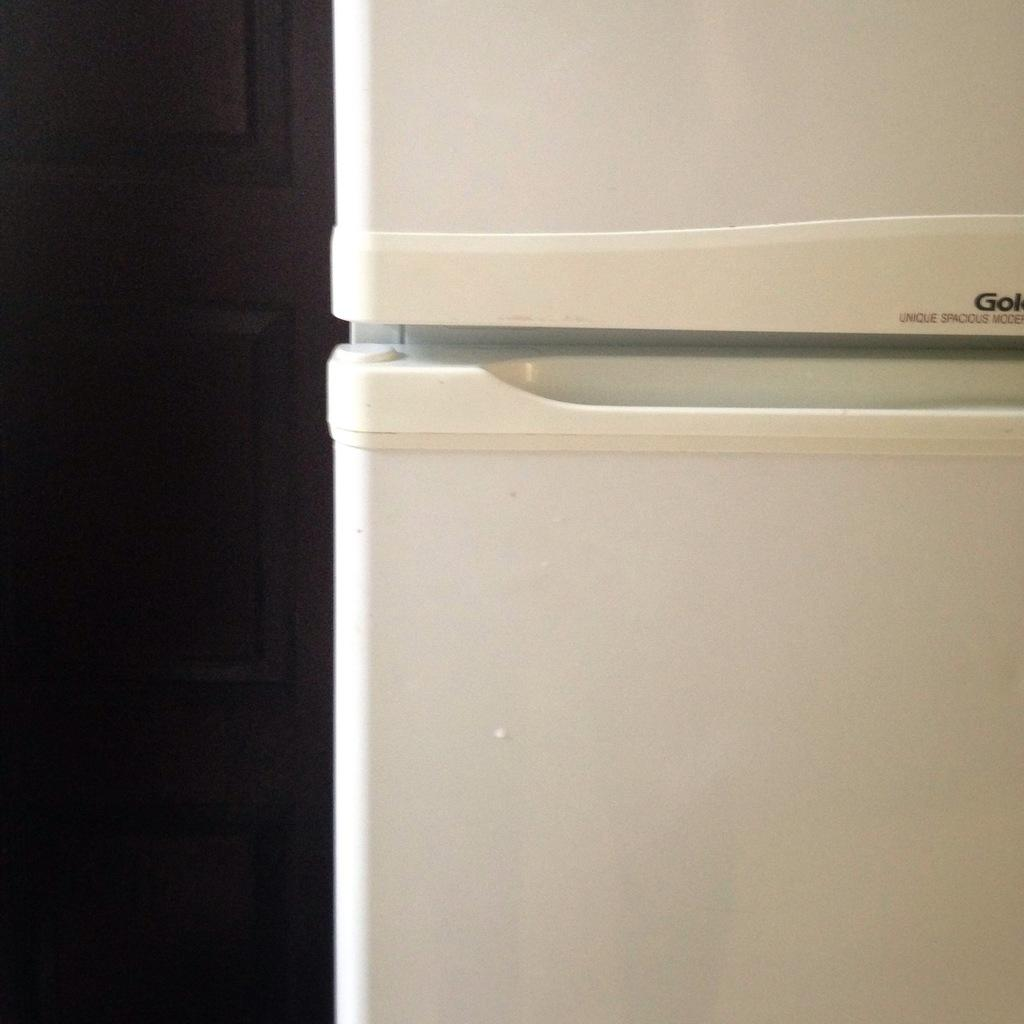handle: (515, 344, 1024, 476)
